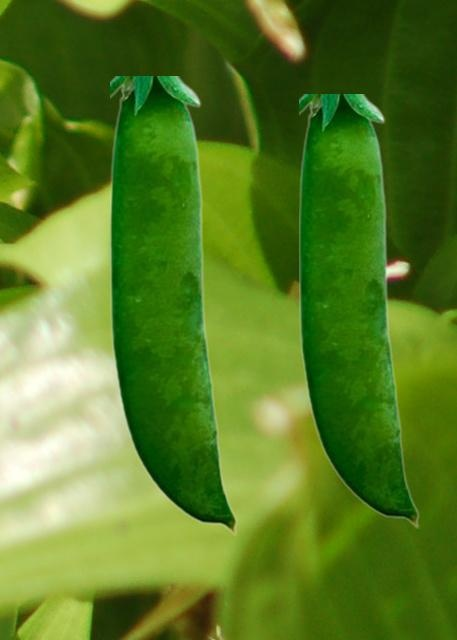pea: (110, 76, 236, 534), (299, 94, 418, 527)
